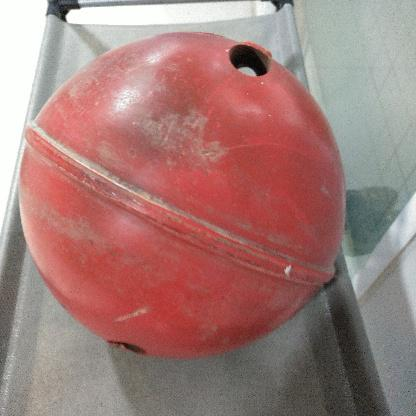red_buoy: (16, 30, 345, 360)
